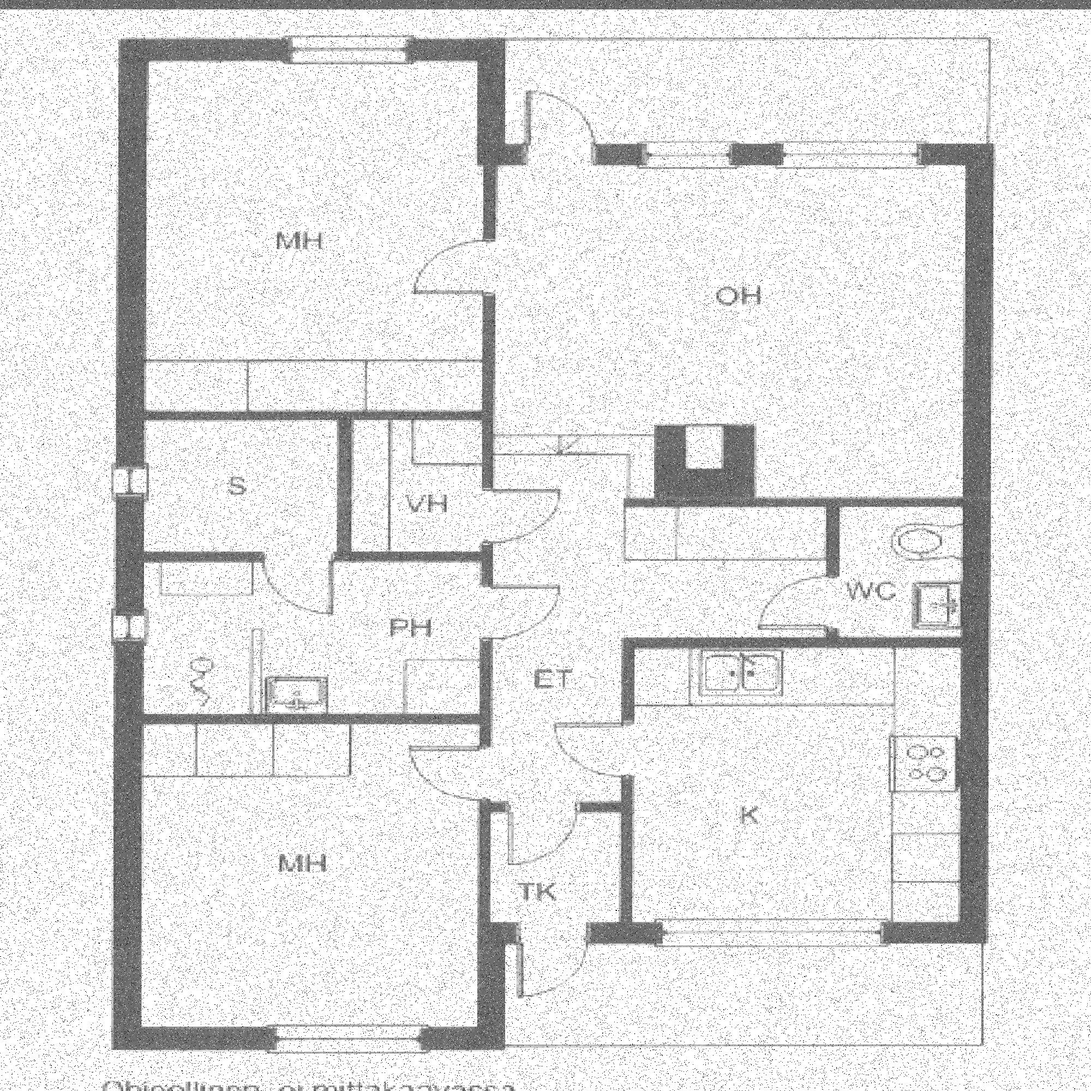wall: (114, 38, 142, 1050), (962, 144, 990, 944), (479, 144, 495, 944), (479, 144, 990, 166), (479, 923, 990, 944), (114, 1027, 507, 1050), (114, 38, 505, 60), (622, 638, 636, 944), (624, 497, 990, 508), (113, 410, 494, 420), (113, 552, 494, 562), (113, 714, 494, 724), (622, 638, 990, 648), (479, 922, 507, 1050), (479, 38, 505, 166), (826, 498, 840, 648), (339, 410, 352, 562), (479, 802, 636, 812)
